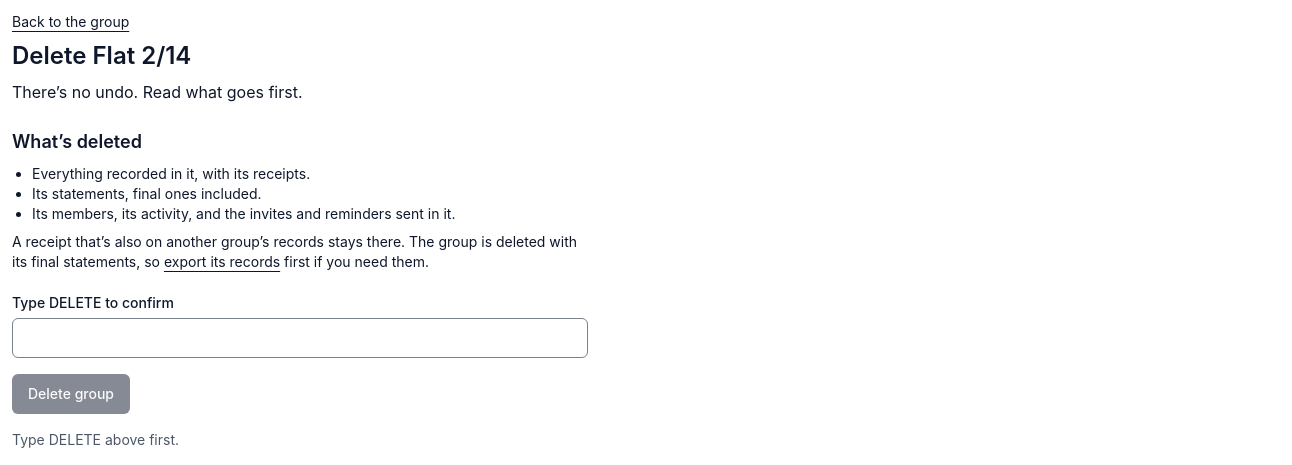
Test case: DeleteGroupPage › takes the group off the cached list and drops what was read for it (AI E on #449)
Step 1. Type "DELETE" into the field labelled "Type DELETE to confirm" → (300, 338), box top-left (12, 318), bottom-right (588, 358)
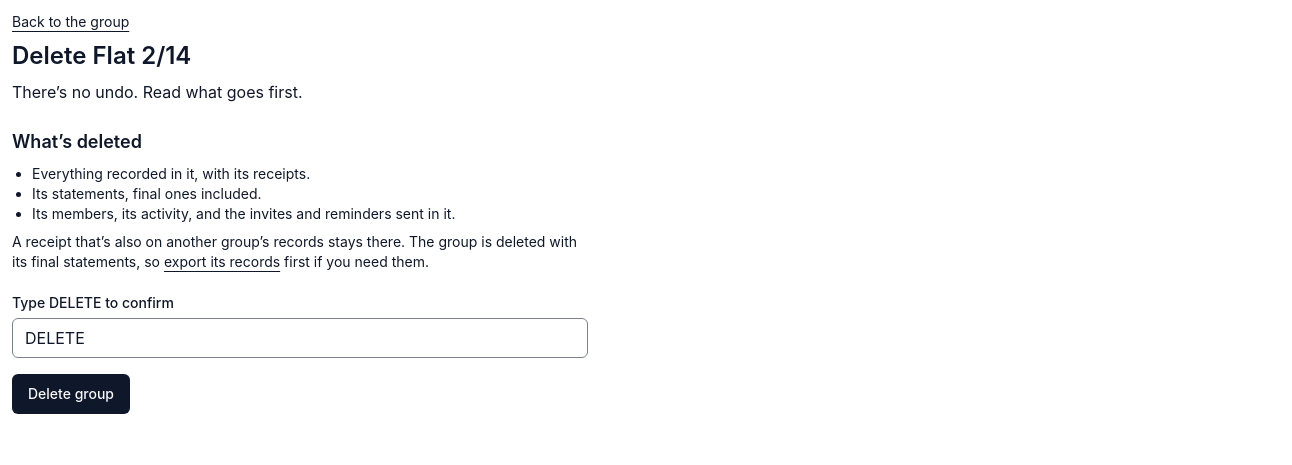
Step 2. Click the button "Delete group" → (71, 394), box top-left (12, 374), bottom-right (130, 414)
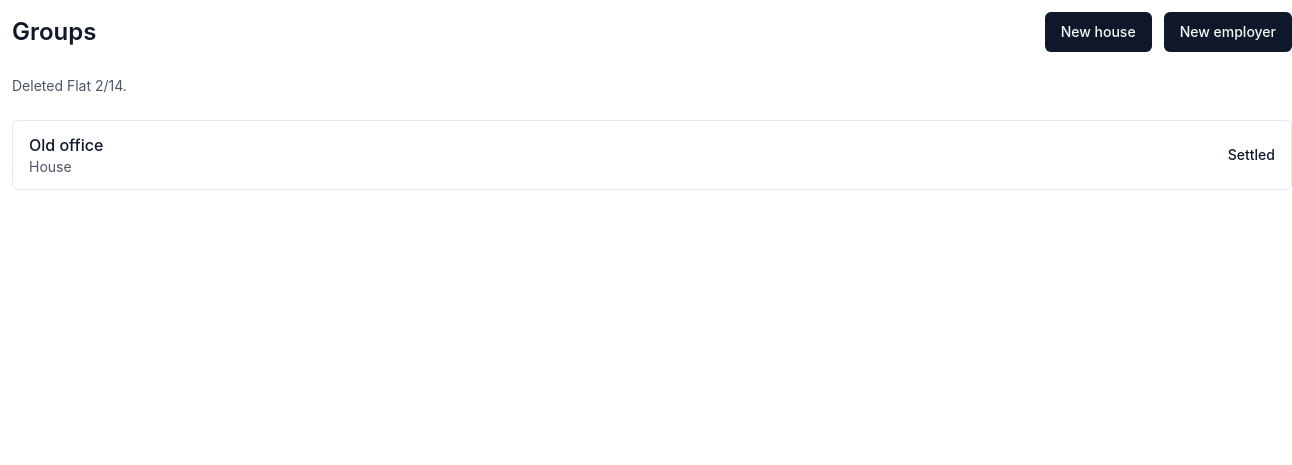
Now the text "Deleted Flat 2/14." is shown, box top-left (12, 77), bottom-right (127, 94)
Now the link "Old office" is shown, box top-left (29, 135), bottom-right (103, 155)
